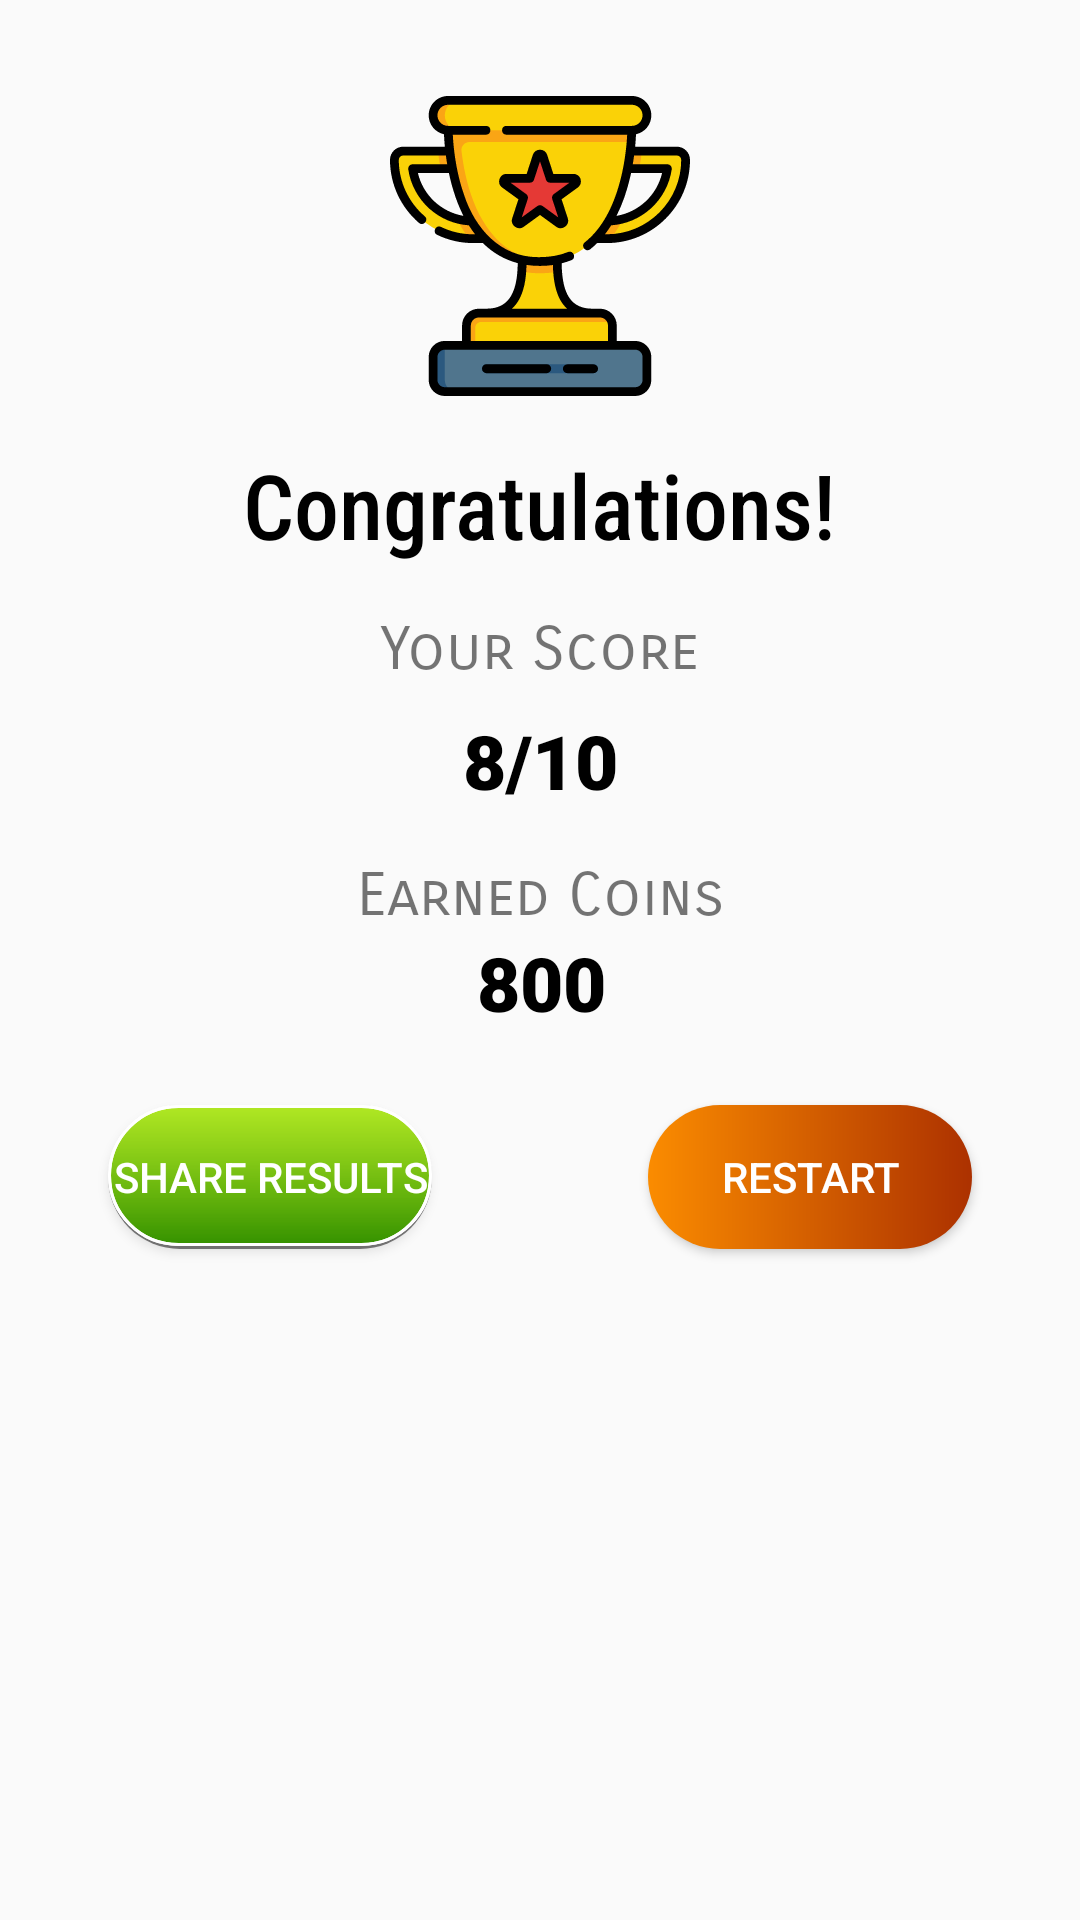

Screen size 1080 × 1920. Icon name, then its center in pixels as [x,y]:
trophy: [540,246]
